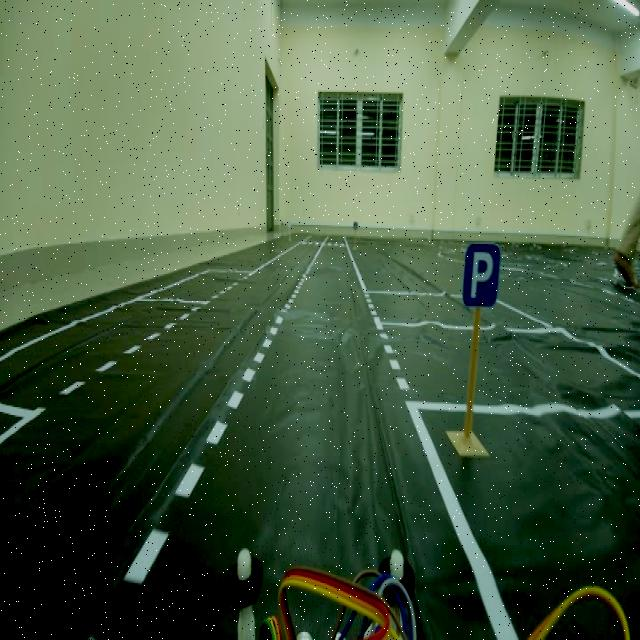parking: (458, 226, 503, 318)
